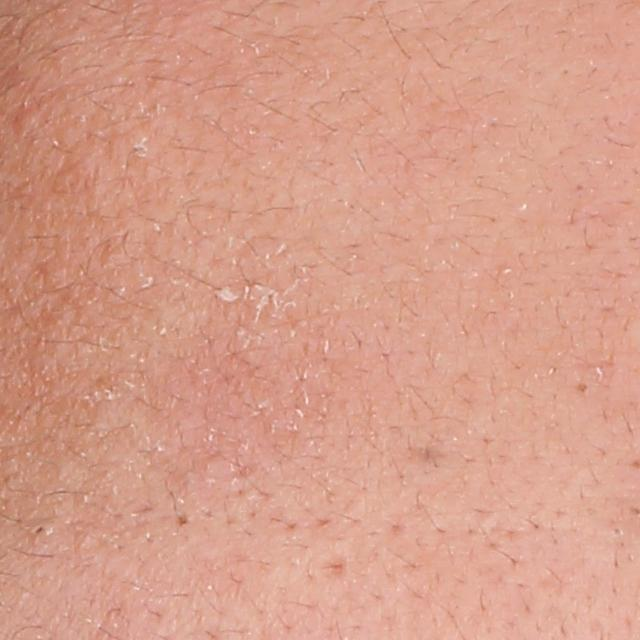comedo: (13, 101, 40, 133), (27, 522, 50, 541)
